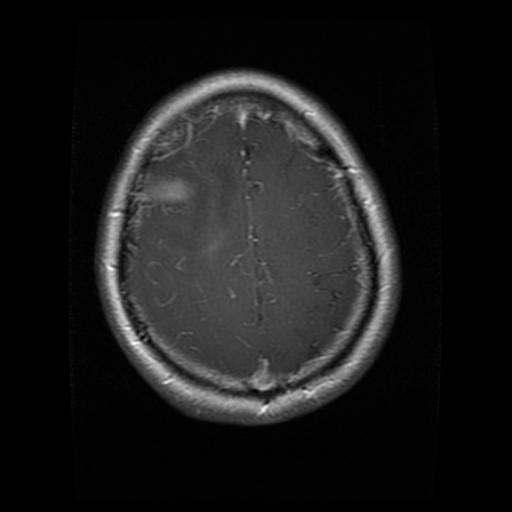glioma: (142, 174, 201, 212)
